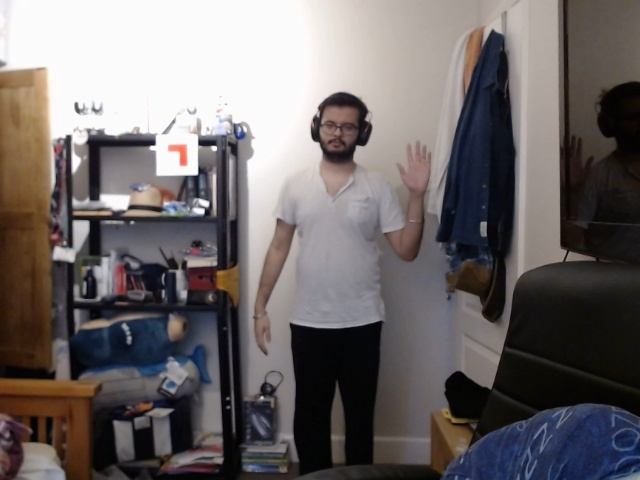Hello: (394, 138, 434, 205)
